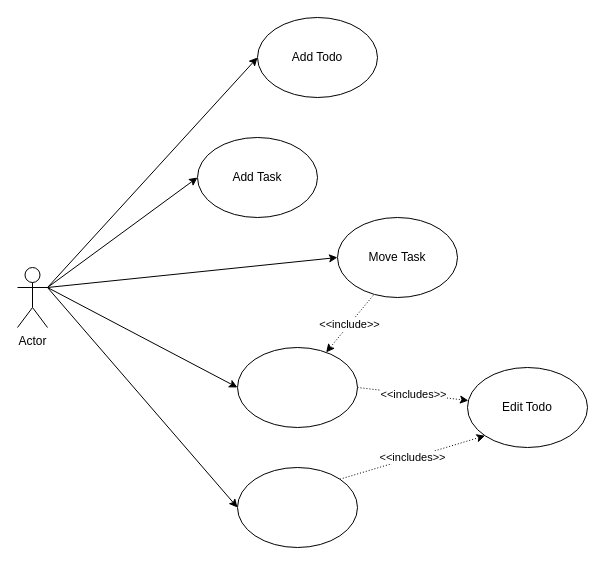
Image size: 605x565. Some labels were removed from this diagram. Here are the shapes that lost their labels. From the top down, the centre of each, then its label:
At point 297,387: "Edit Task".
At point 297,507: "Delete Task".
